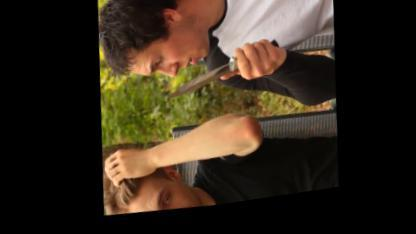knife: (154, 38, 281, 113)
